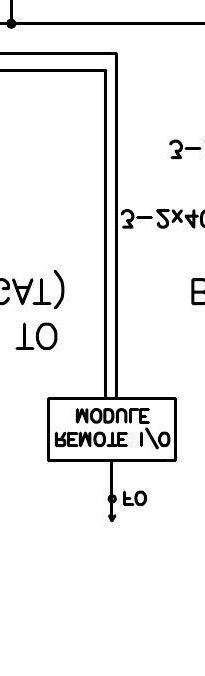remote_io_module: (46, 396, 177, 462)
